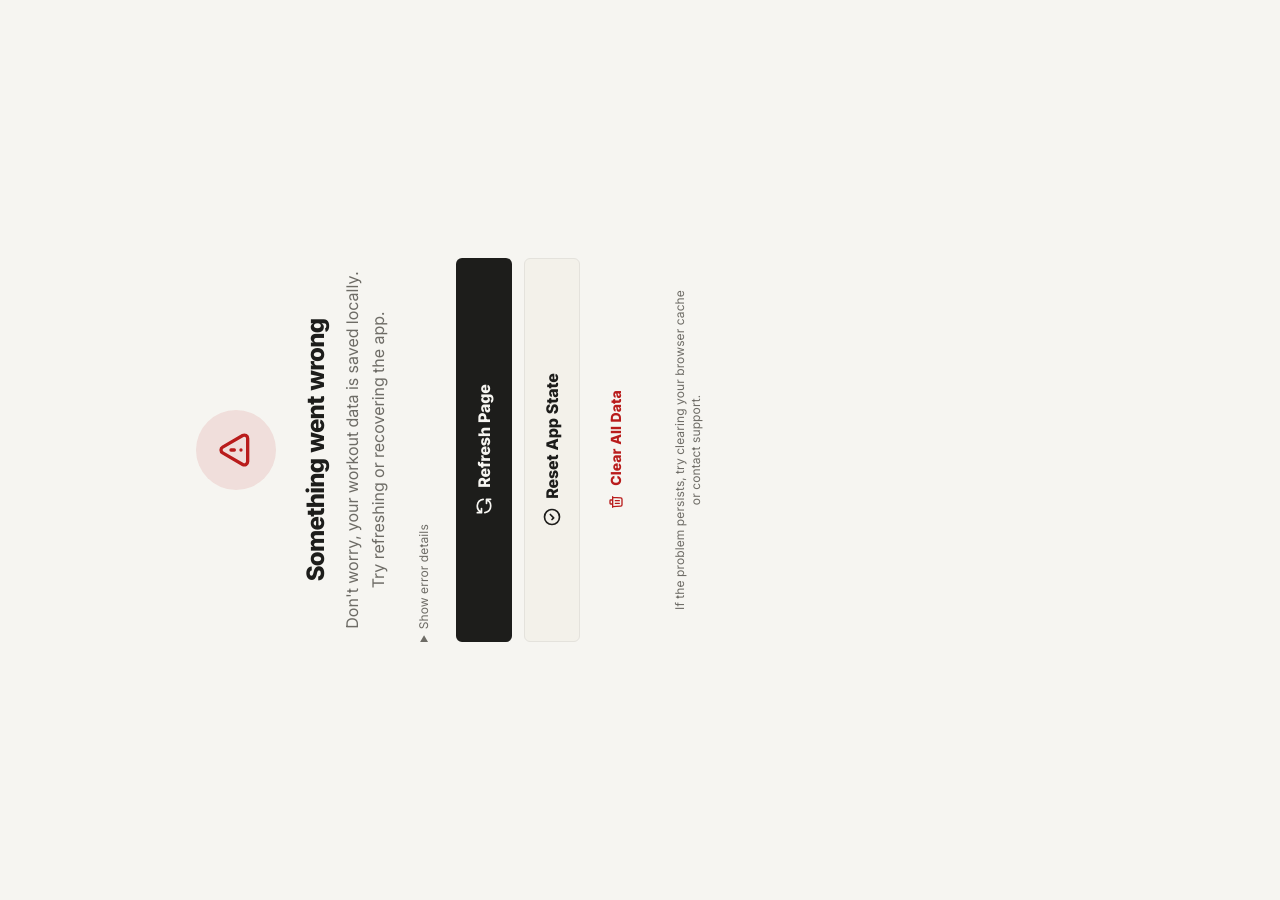
ErrorBoundary › provides clear all data button that opens confirmation dialog
Click the button "Clear All Data".
click(616, 450)  # box top-left (592, 258), bottom-right (640, 642)
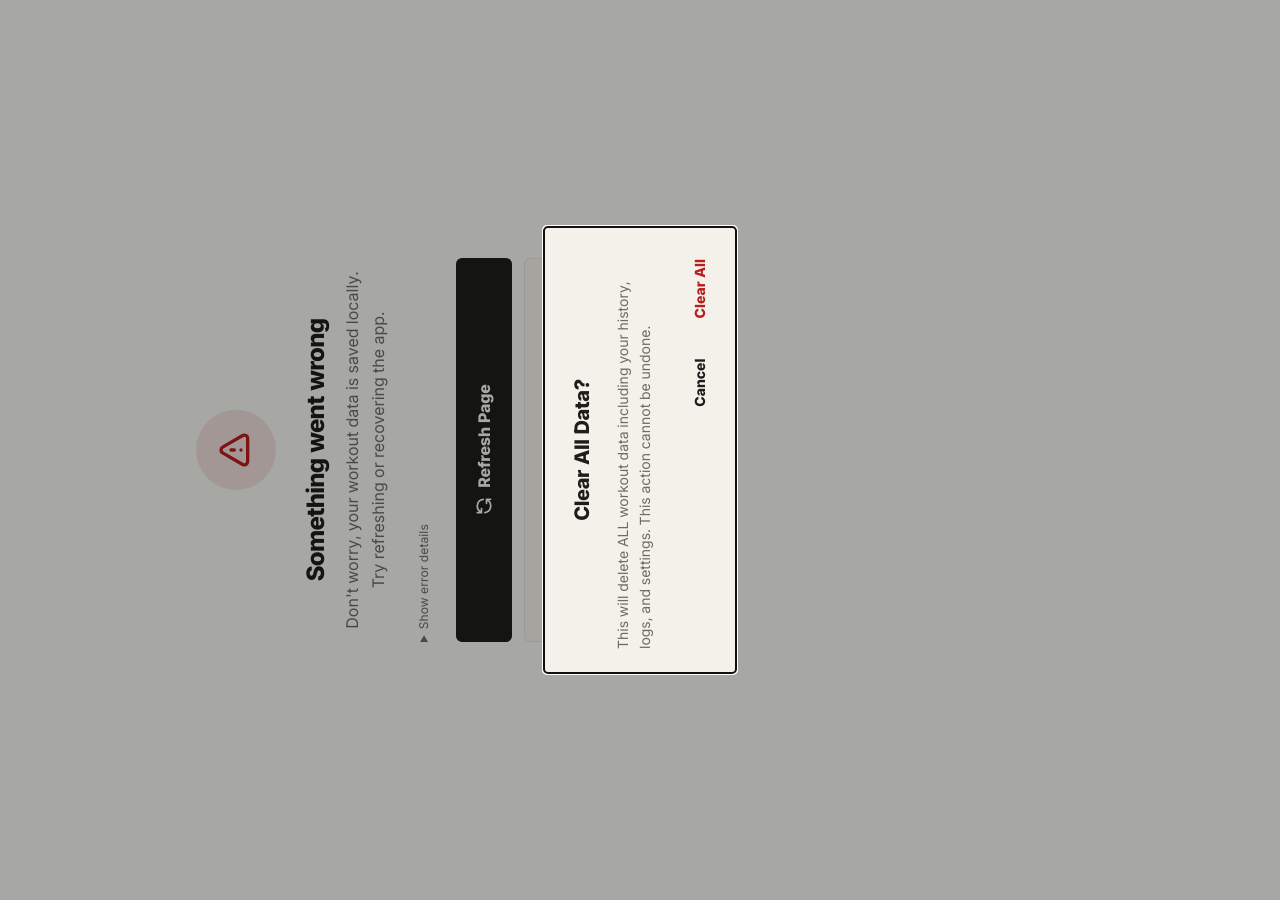
Check: the heading "Clear All Data?" is shown, box top-left (570, 379), bottom-right (594, 521)
Check: the text "This will delete ALL workout data" is shown, box top-left (614, 282), bottom-right (653, 649)
